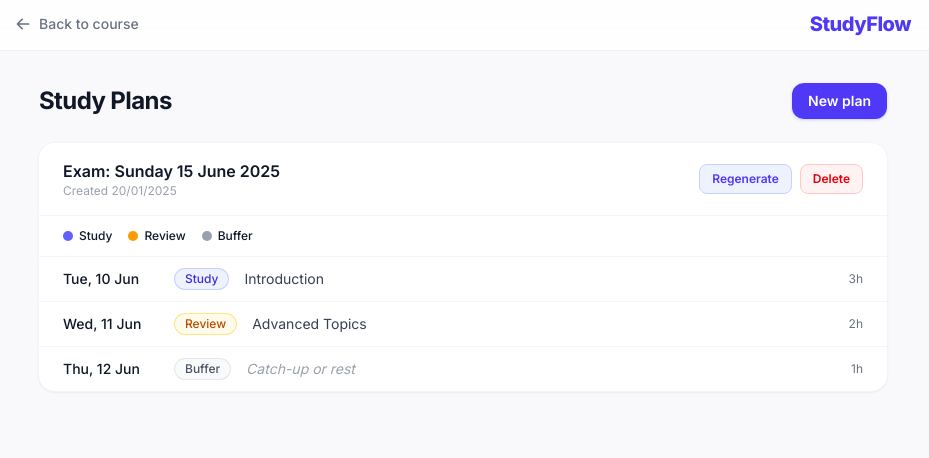
Test: StudyPlan › expands day row on click to show full text and quiz button
Click the day row
Click the text "Introduction" at (284, 278), box [244, 270, 324, 287]
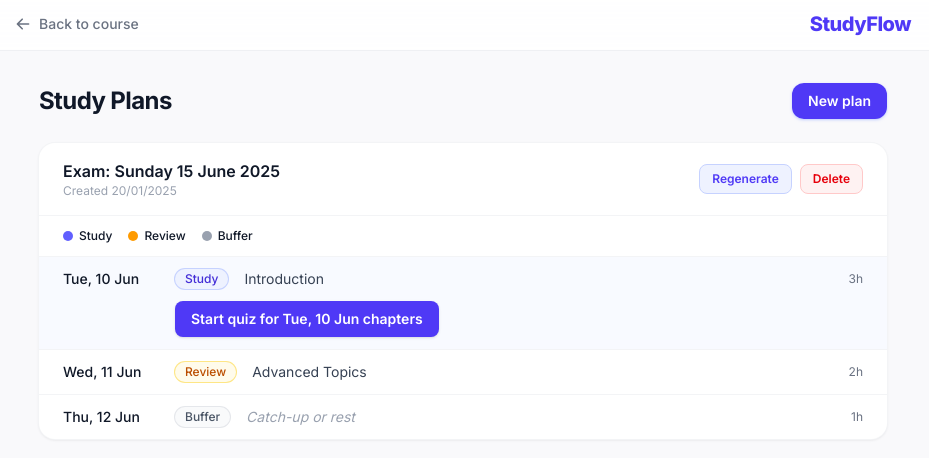
Now the button "Start quiz for Tue, 10 Jun chapters" is shown, box [175, 301, 439, 337]
